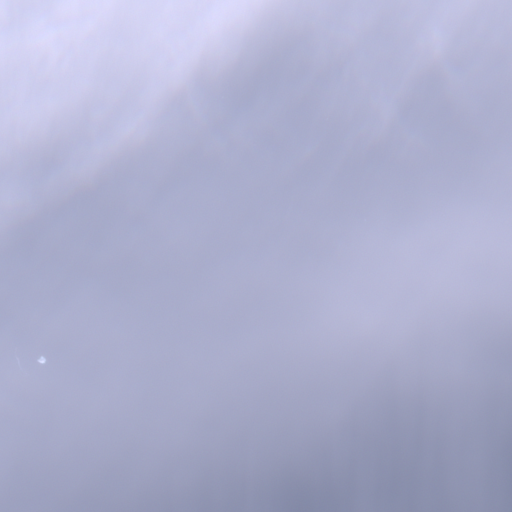Iceberg: (38, 357, 45, 362)
